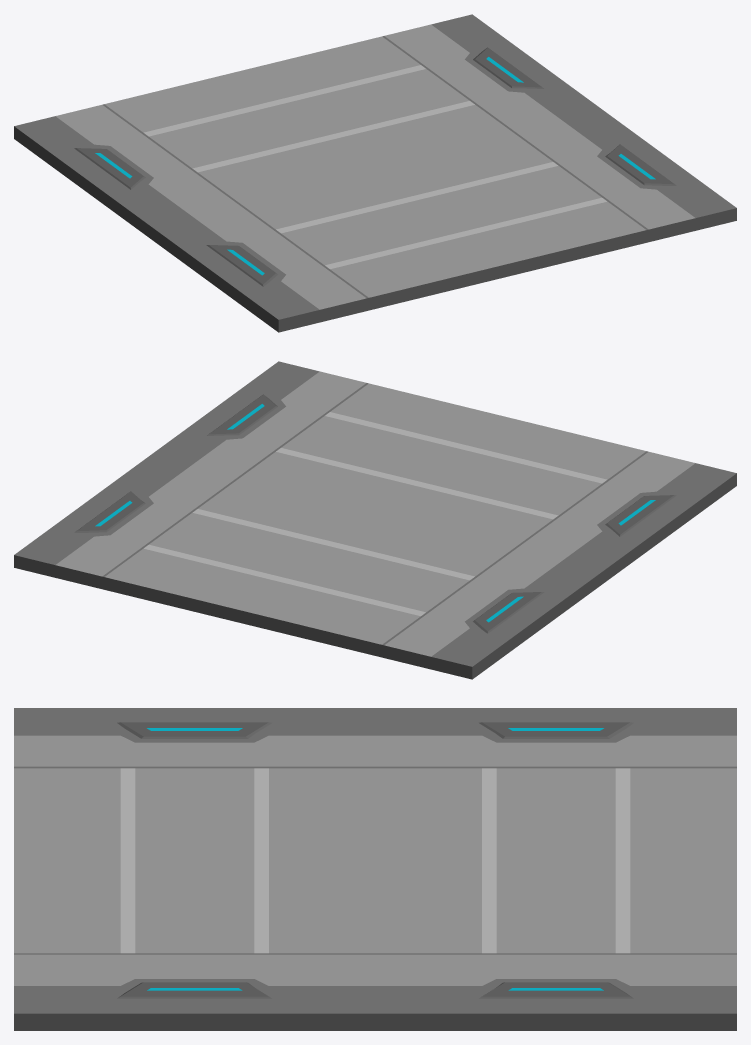
Rendered from tile_platform_001.fbx.
The picture shows the model from 3 angles, top to bottom: view 1: azimuth 30°, elevation 25°; view 2: azimuth 150°, elevation 25°; view 3: azimuth 270°, elevation 25°; orthographic projection. The views are drawn at different scales.
Visible parts, largest first — view 1: tile_platform_001; view 2: tile_platform_001; view 3: tile_platform_001.
Boxes of the visible parts, box(x1,y1,x2,y2) form: tile_platform_001: box(14, 14, 736, 332); tile_platform_001: box(14, 361, 736, 679); tile_platform_001: box(14, 708, 736, 1030).
Size of the model in its own units: 800 by 800 by 22.89.
